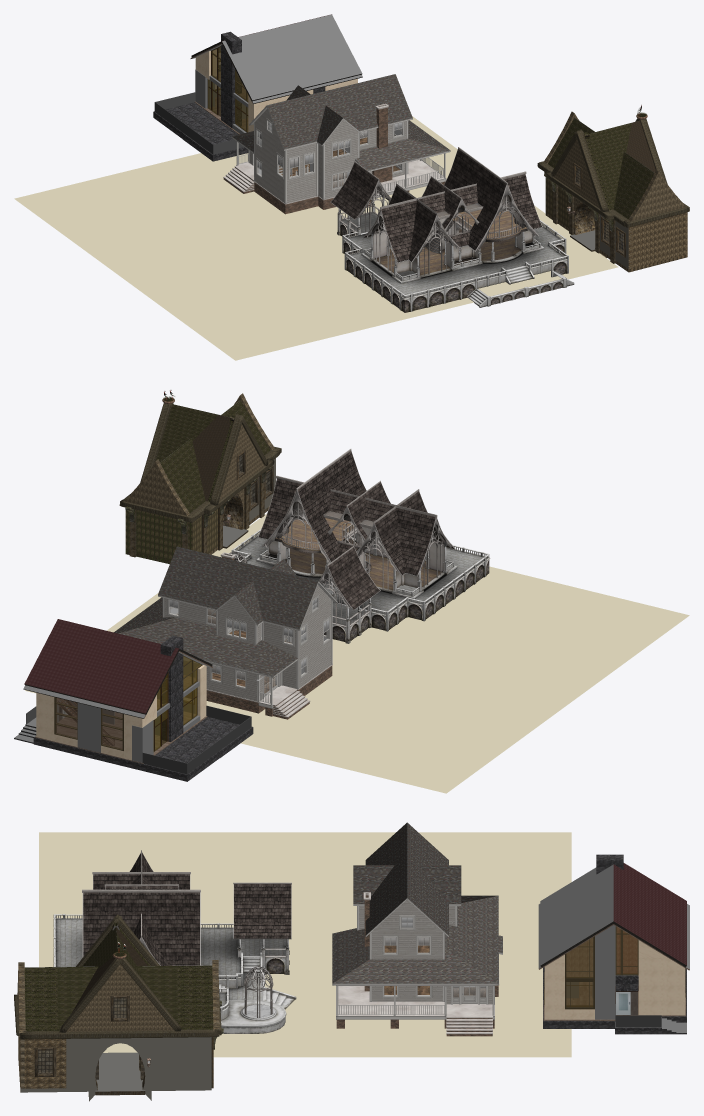
The picture shows the model from 3 angles, top to bottom: view 1: azimuth 30°, elevation 25°; view 2: azimuth 150°, elevation 25°; view 3: azimuth 270°, elevation 25°; orthographic projection. The views are drawn at different scales.
Parts seen in each view (by area): view 1: Terrain 8,1, hallstead farmhouse (×8), Cottage 33, Baller 5 Two-Storey House, Compulsion Elven House Main (×3), Compulsion Elven House Base (×2); view 2: Terrain 8,1, Baller 5 Two-Storey House, hallstead farmhouse (×9), Cottage 33, Compulsion Elven House Main (×3), Compulsion Elven House Base (×2); view 3: Terrain 8,1, Cottage 33, hallstead farmhouse (×8), Baller 5 Two-Storey House, Compulsion Elven House Base (×7), Compulsion Elven House Main (×2).
Part boxes in pixels (box(x1,y1,x2,y2)): Terrain 8,1: box(14, 116, 618, 360); hallstead farmhouse (×8): box(249, 74, 450, 214); Cottage 33: box(537, 111, 689, 272); Baller 5 Two-Storey House: box(153, 14, 362, 161); Compulsion Elven House Main (×3): box(361, 149, 544, 283); Compulsion Elven House Base (×2): box(330, 161, 566, 297); Terrain 8,1: box(25, 513, 689, 793); Baller 5 Two-Storey House: box(14, 619, 253, 781); hallstead farmhouse (×9): box(114, 546, 337, 719); Cottage 33: box(119, 393, 281, 564); Compulsion Elven House Main (×3): box(256, 451, 457, 598); Compulsion Elven House Base (×2): box(236, 534, 483, 614); Terrain 8,1: box(39, 832, 571, 1057); Cottage 33: box(14, 914, 223, 1101); hallstead farmhouse (×8): box(332, 822, 502, 1036); Baller 5 Two-Storey House: box(538, 854, 689, 1034); Compulsion Elven House Base (×7): box(55, 882, 291, 1033); Compulsion Elven House Main (×2): box(82, 853, 200, 965).
Size of what is drawn, in the model's own units: 75.05 by 24.26 by 81.24.
199 materials, 197 textured.
